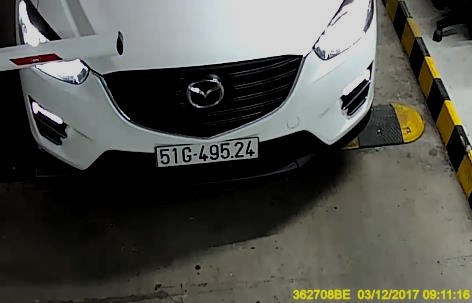plate: (156, 137, 256, 165)
